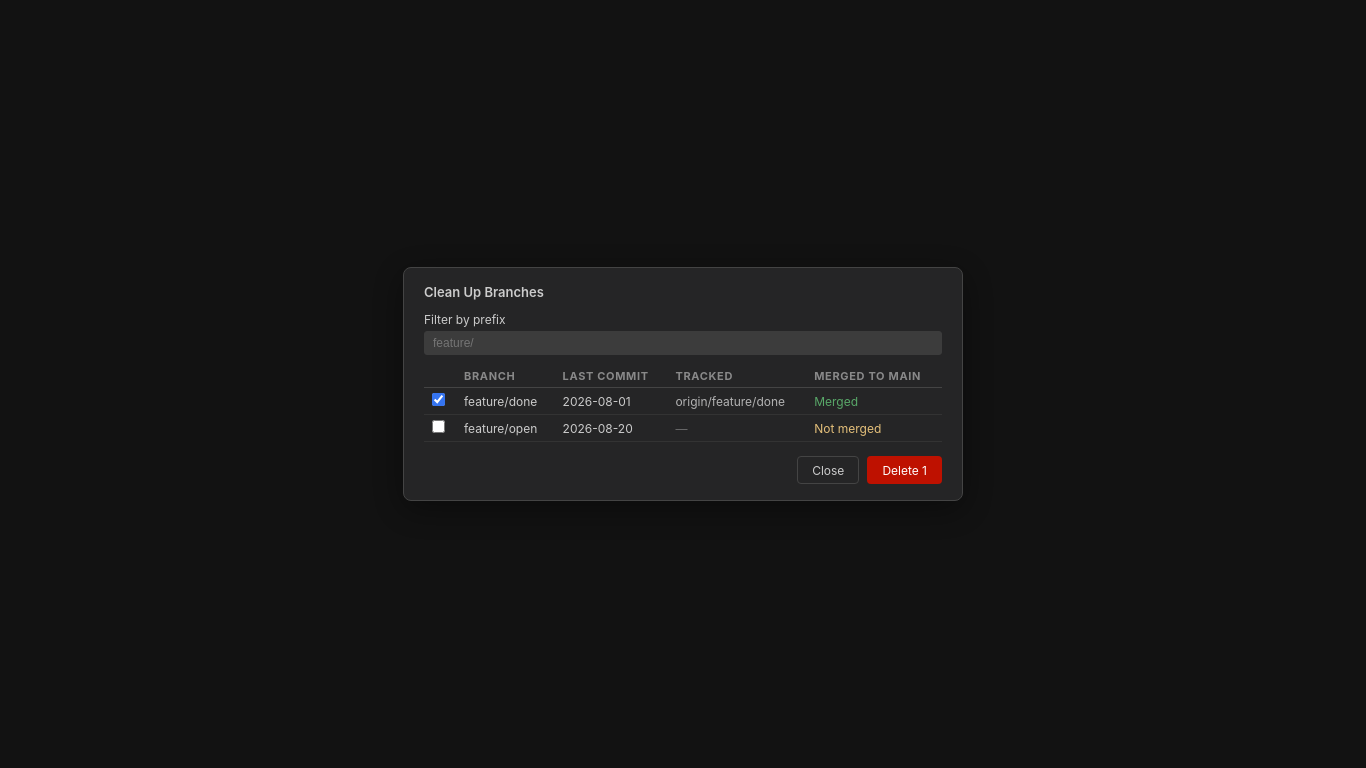
Test: CleanupBranchesDialog › reports which deletions failed without blocking the rest
expect the text "feature/done" is shown: met, box [456,388,555,414]
What coordinates should you click on to do the following:
click the checkbox named "Select feature/open"
I would click on:
 (438, 426)
Its box is [432,420,445,433].
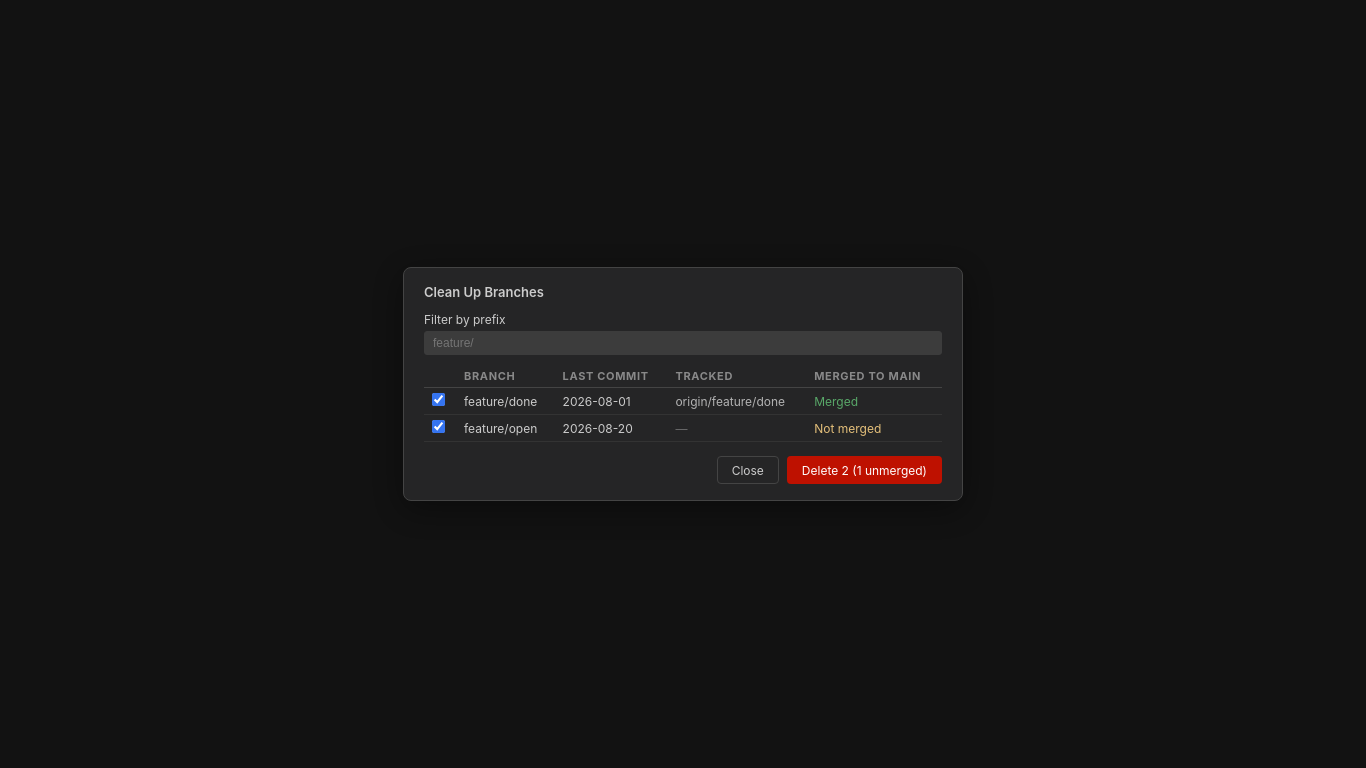
What coordinates should you click on to do the following:
click the button "Delete 2 (1 unmerged)"
I would click on:
 (864, 470)
Its box is [787,456,942,484].
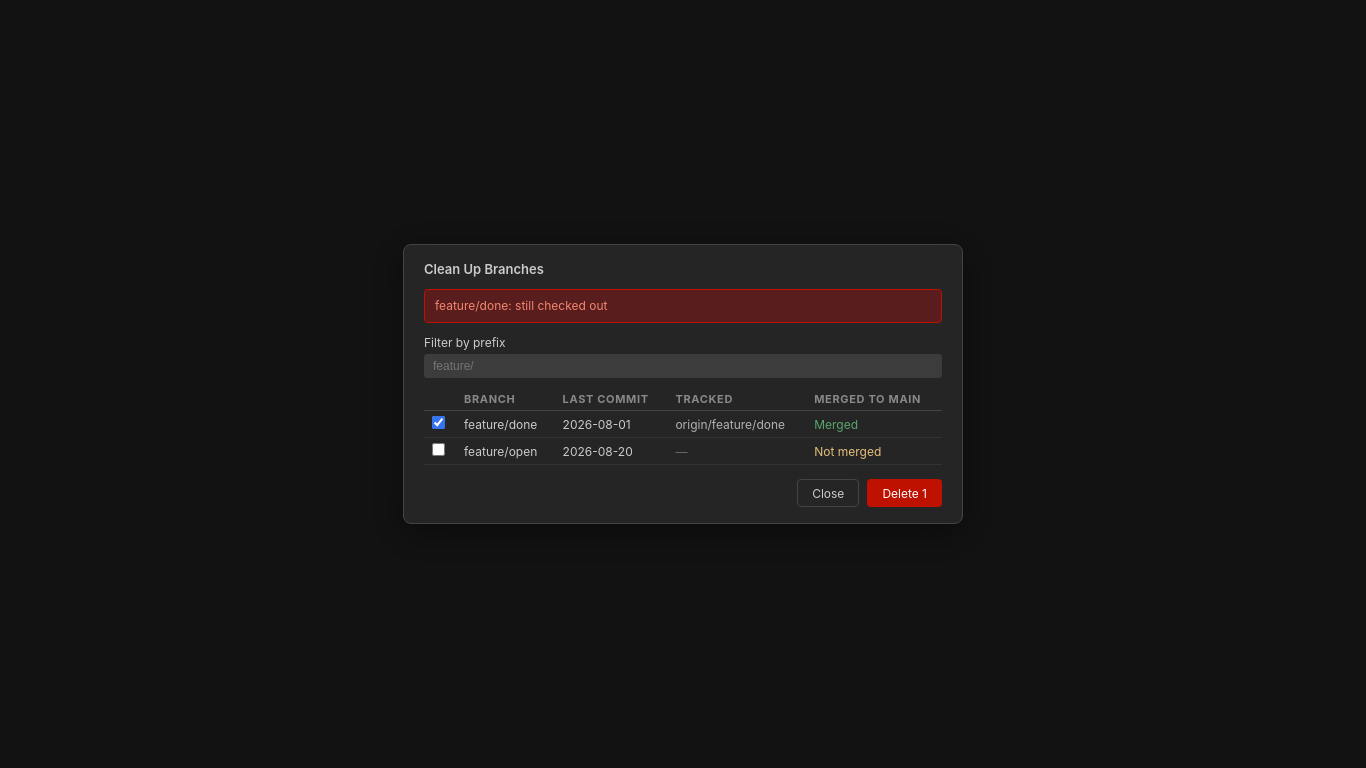
expect the text "feature/done: still checked out" is shown: met, box [424,289,942,323]
